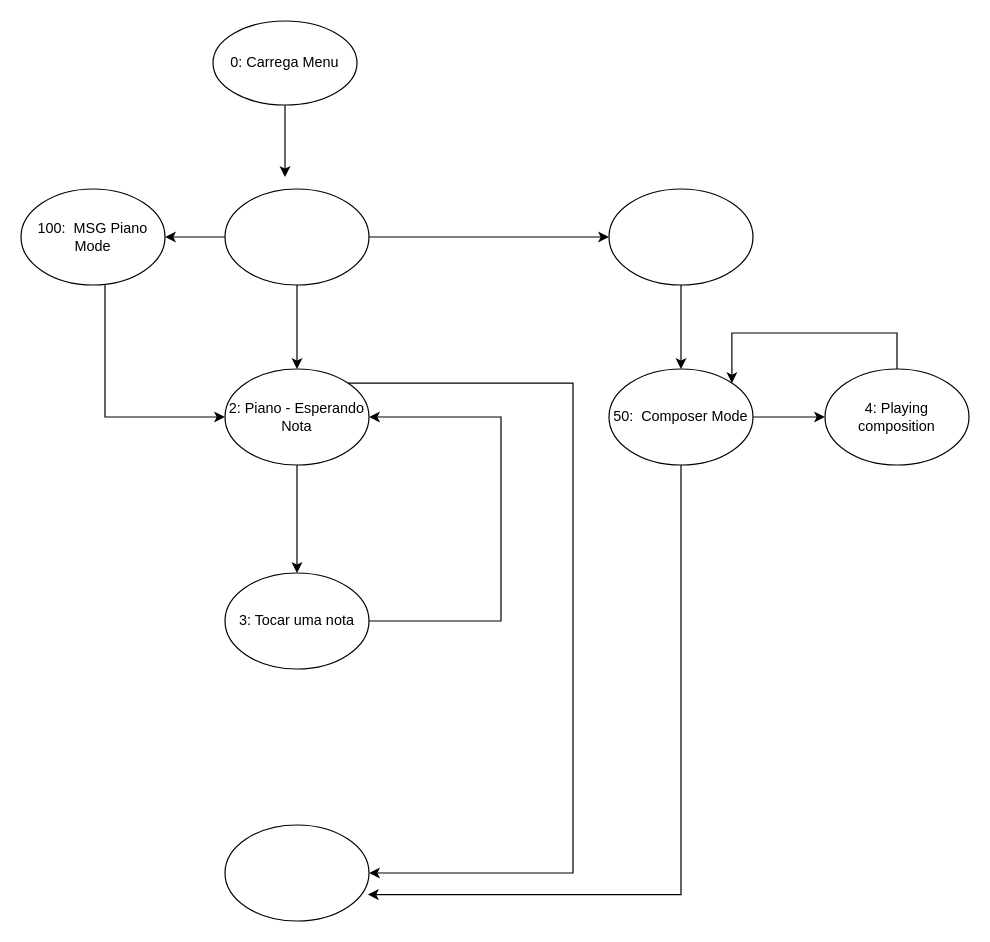
Some shapes in this 990 by 942 pixel diagram are drawn without their labels. The centre of each missing label's shape, as x and y in pixels:
"101: MSG Composer Mode" goes at [680,236].
"1: Menu principal" goes at [296,236].
"255: Reset" goes at [296,872].
